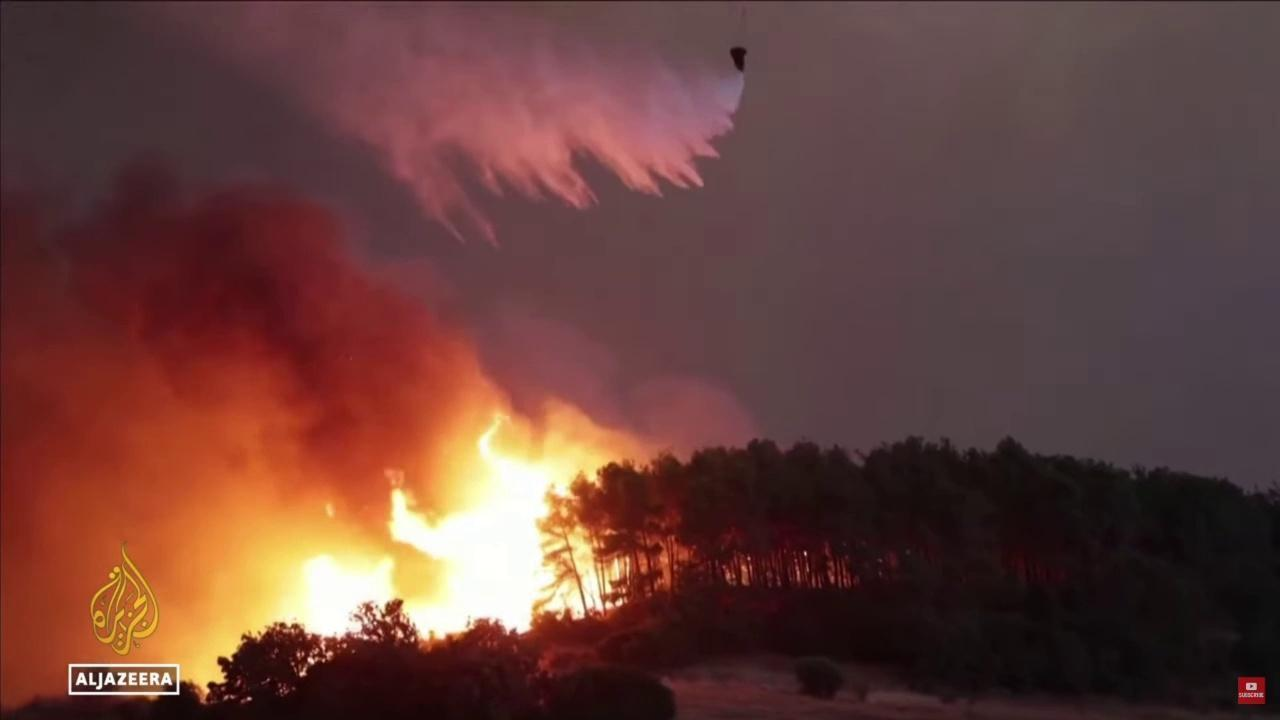fire: (284, 409, 642, 656)
smoke: (0, 146, 767, 715)
